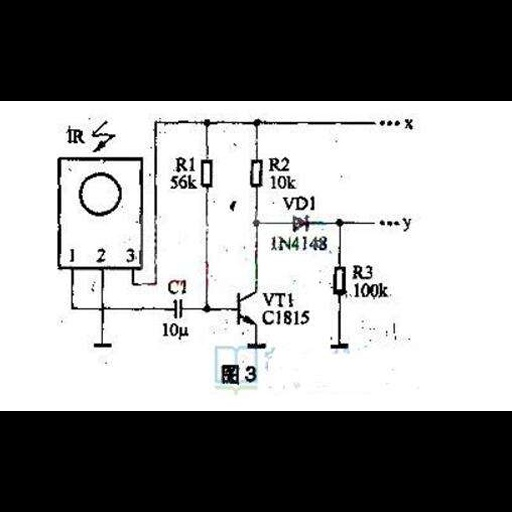capacitor: (168, 296, 190, 320)
firstresistance: (328, 264, 349, 299), (198, 157, 218, 190), (247, 156, 266, 189)
npn: (230, 286, 261, 332)
seconddiode: (288, 213, 314, 234)
